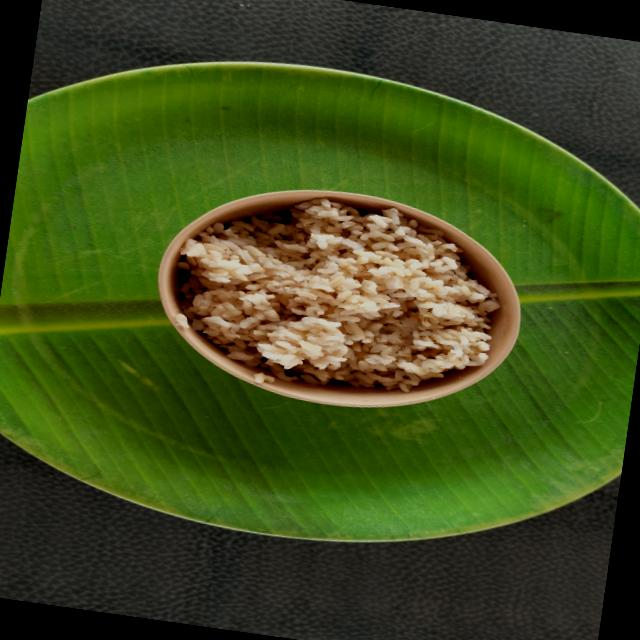brown-rice: (179, 199, 500, 391)
